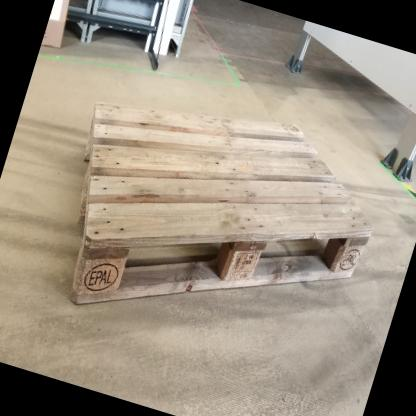BoxFace: (67, 91, 378, 309)
